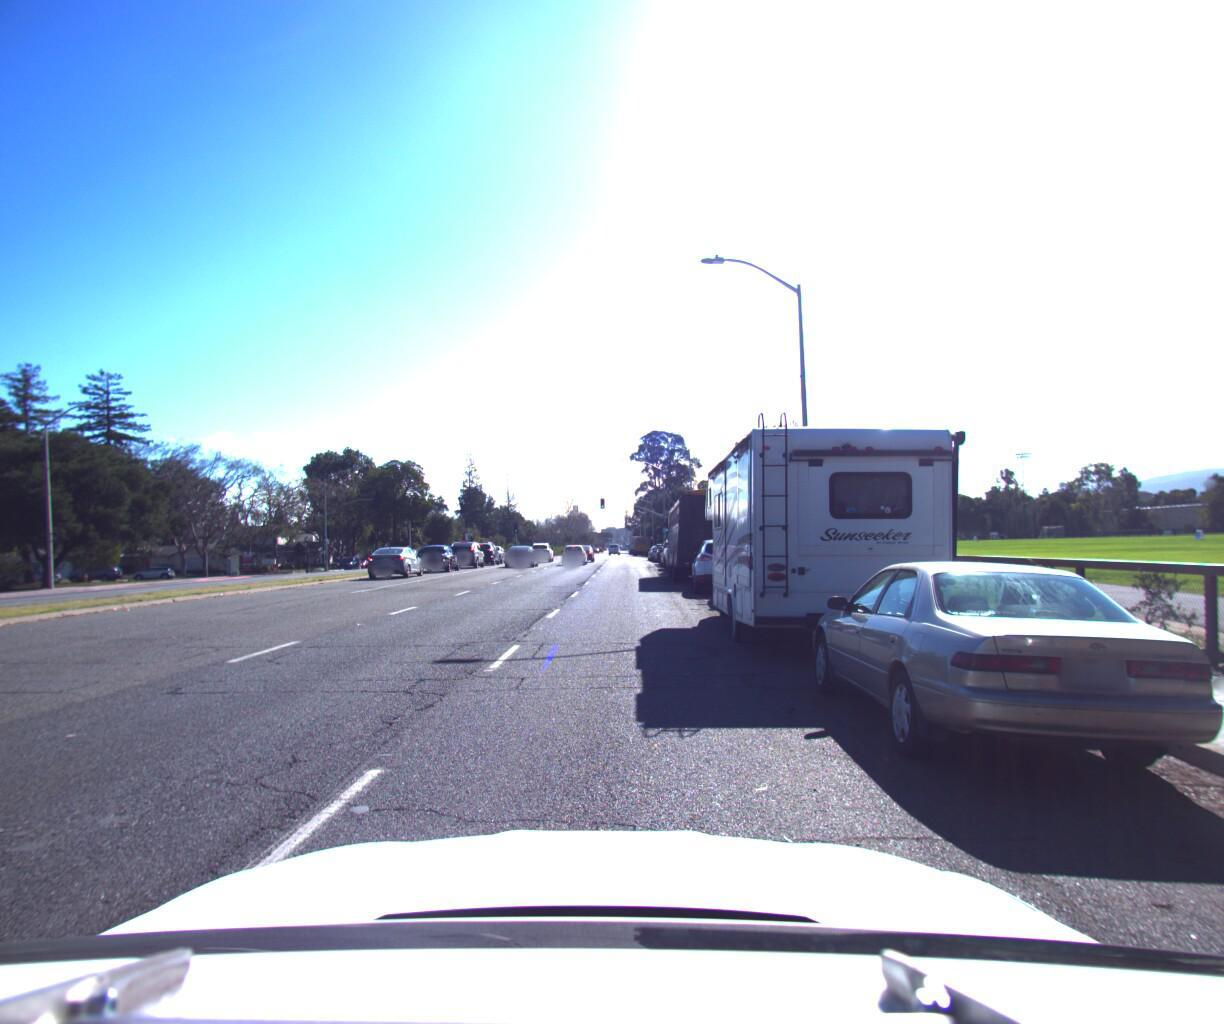bus: (661, 475, 754, 581)
car: (790, 548, 1224, 819), (686, 527, 757, 591), (364, 536, 428, 573), (408, 535, 463, 565), (442, 530, 488, 563), (501, 536, 538, 562), (467, 533, 502, 558), (525, 530, 553, 553), (560, 533, 588, 555)
other_vehicle: (694, 382, 981, 666)
